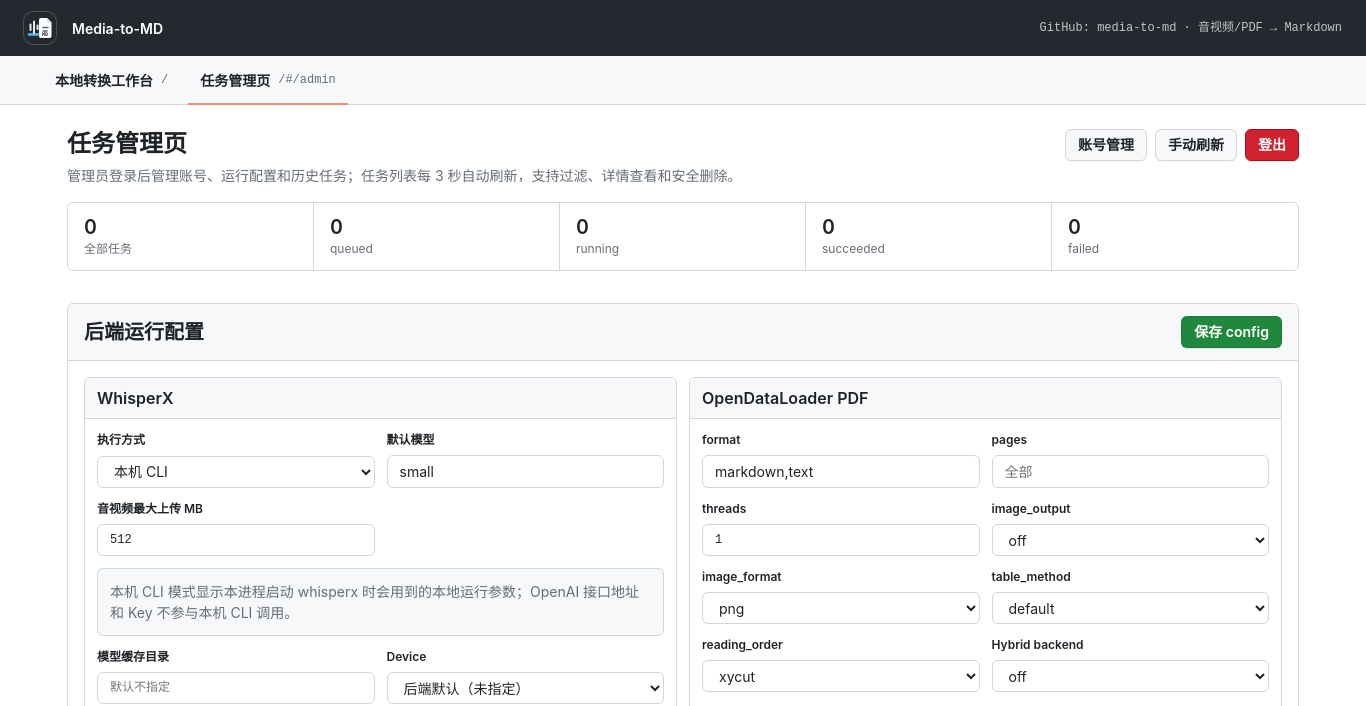
Scenario: hash routing shell › shows a right-side notice after saving backend config
The image size is (1366, 706).
Check: the field labelled "默认模型" holds "small", box left=386, top=455, right=664, bottom=488
Click the button "保存 config" at (1232, 332), box left=1181, top=316, right=1282, bottom=348
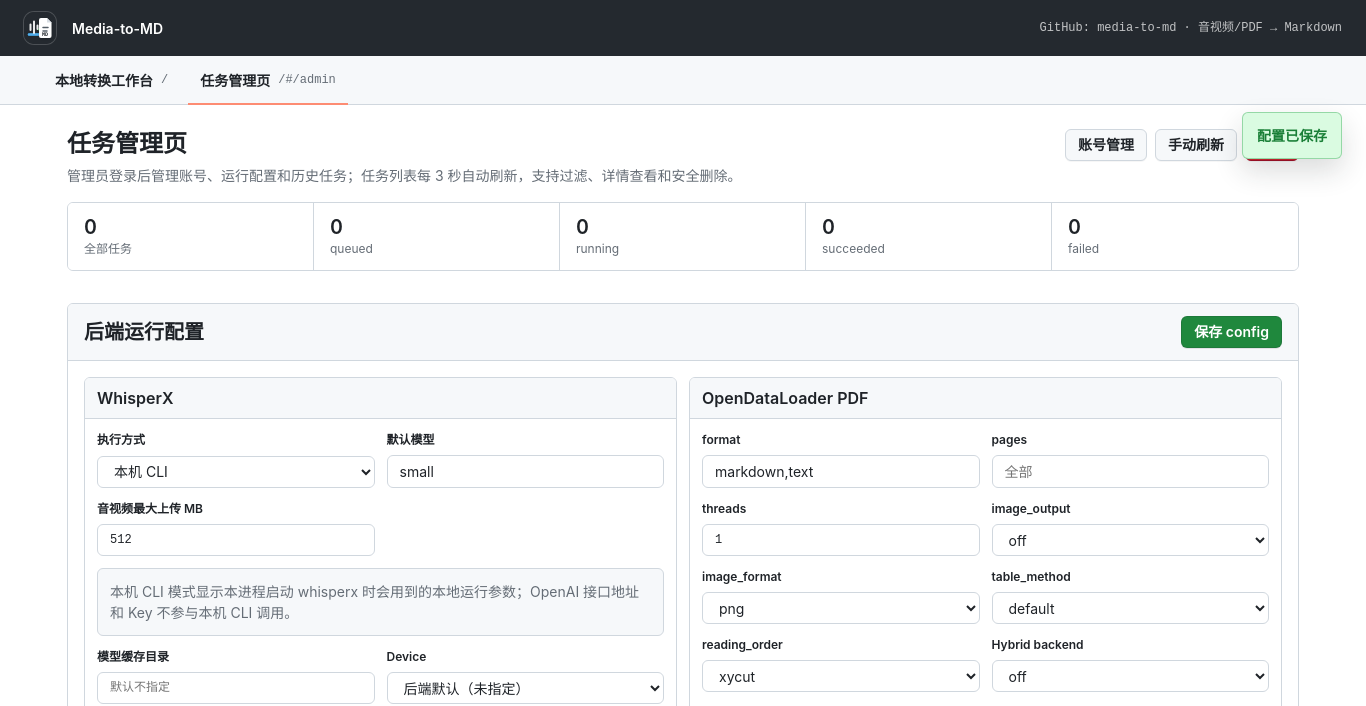
Check: the message reads "配置已保存", box left=1257, top=127, right=1327, bottom=144
